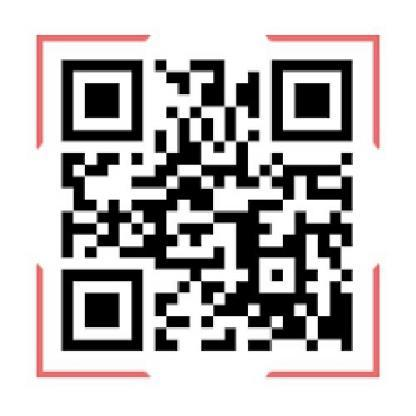qr_code: (59, 59, 353, 353)
